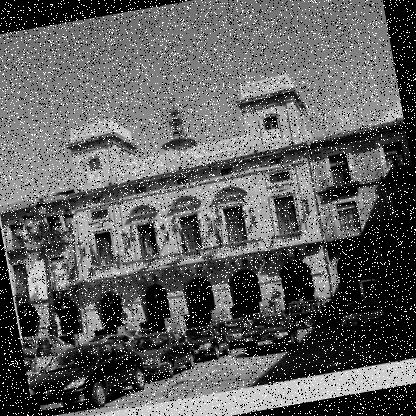Car: (20, 271, 415, 415)
